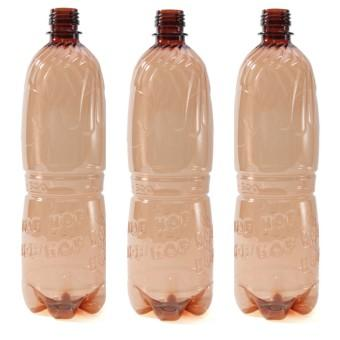bottle: (126, 9, 214, 322), (229, 11, 316, 319), (0, 10, 75, 317)
